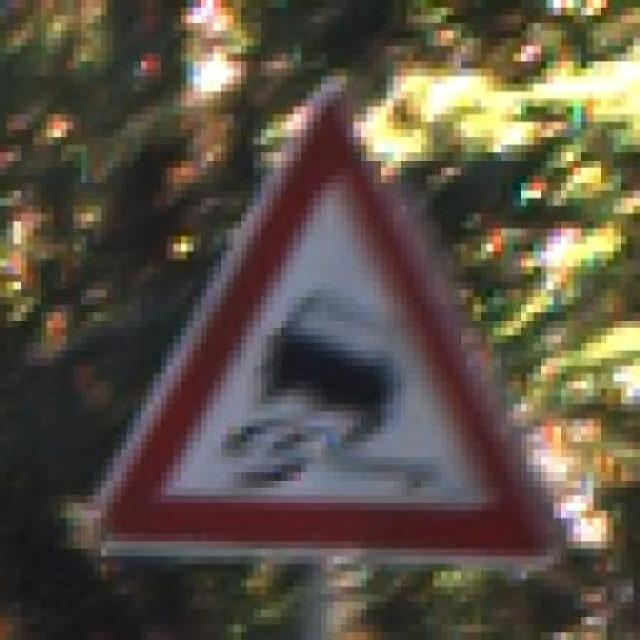Slippery Road Ahead: (79, 69, 567, 572)
